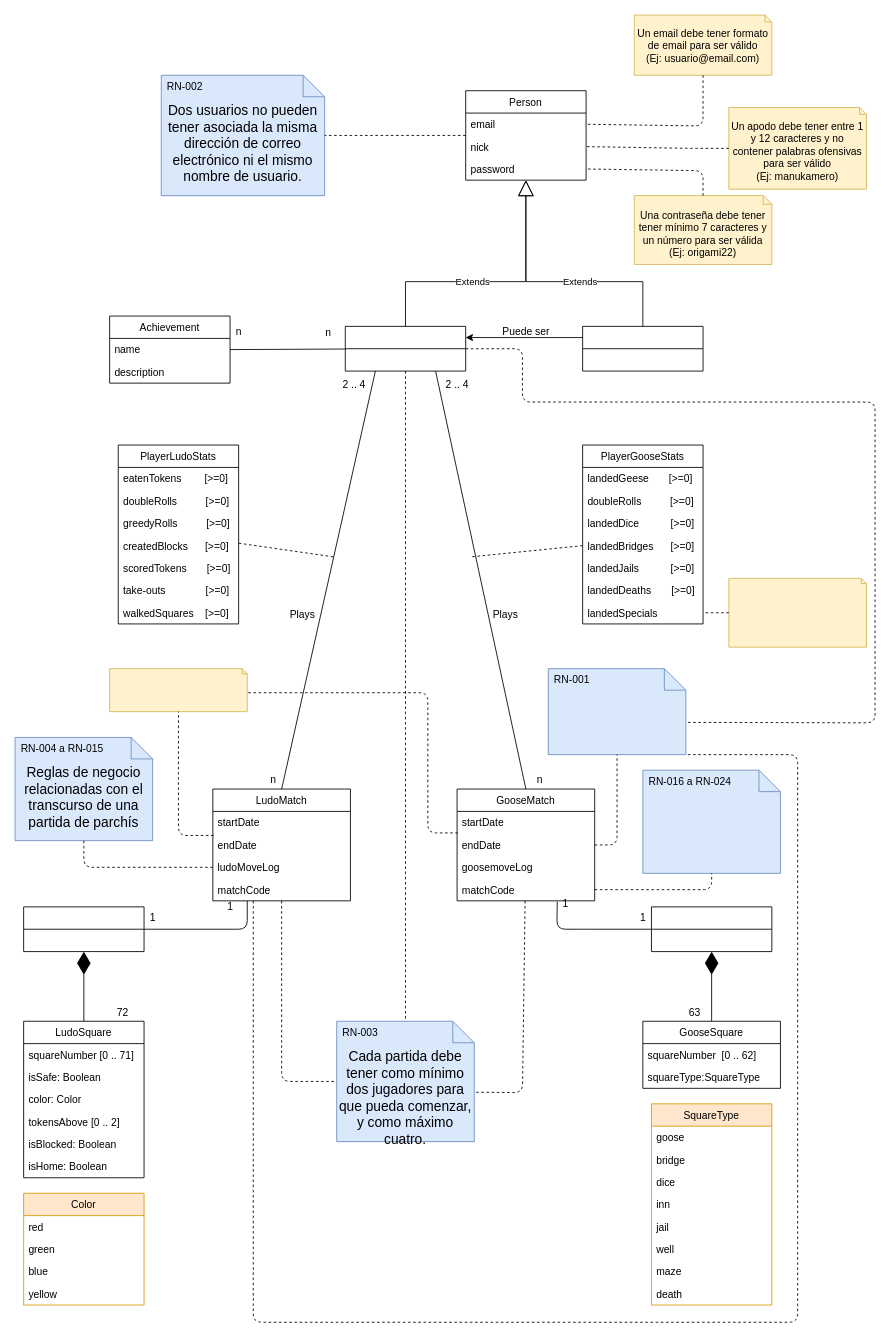
The diagram is 891 pixels wide and 1338 high, and some of its shapes have lost their labels. Each missing label, with the centre of its shape:
"Admin" goes at (642,348).
"Cada jugador solo puede tener una partida en curso." goes at (616,711).
"endDate == null o startDate<=endDate" goes at (178,690).
"GooseBoard" goes at (711,929).
"landedSpecials >= landedGeese + landedBrudges + landedJails + landedDeaths" goes at (797,612).
"LudoBoard" goes at (83,929).
"Player" goes at (405,348).
"Reglas de negocio relacionadas con el transcurso de una partida de oca." goes at (711,821).
